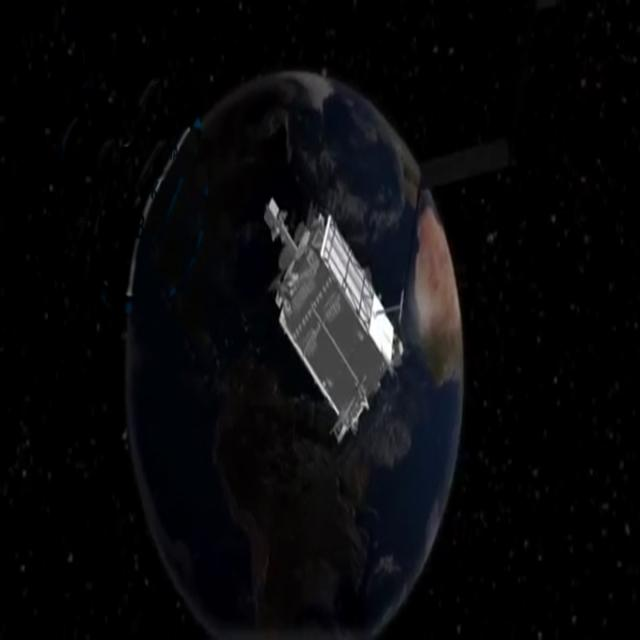medium_debris: (251, 183, 423, 450)
